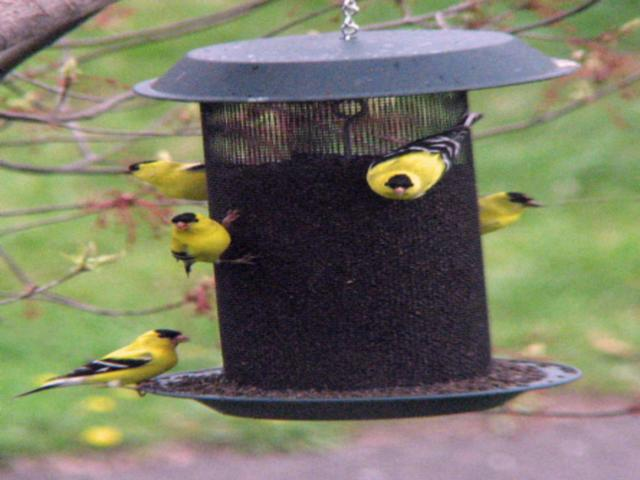Bird: (8, 327, 190, 397), (351, 112, 487, 204), (156, 202, 255, 272), (447, 185, 544, 239), (124, 156, 213, 206)
